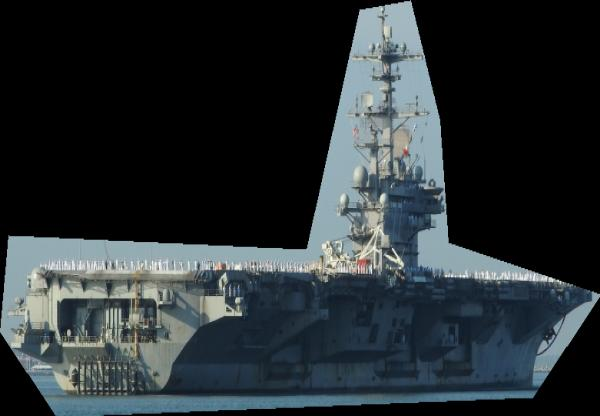Aircraft Carrier: (0, 0, 600, 416)
